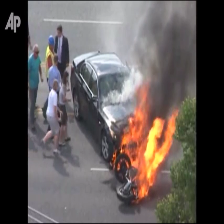fire_h: (120, 78, 179, 201)
fire_l: (117, 157, 129, 170), (110, 150, 116, 171)
